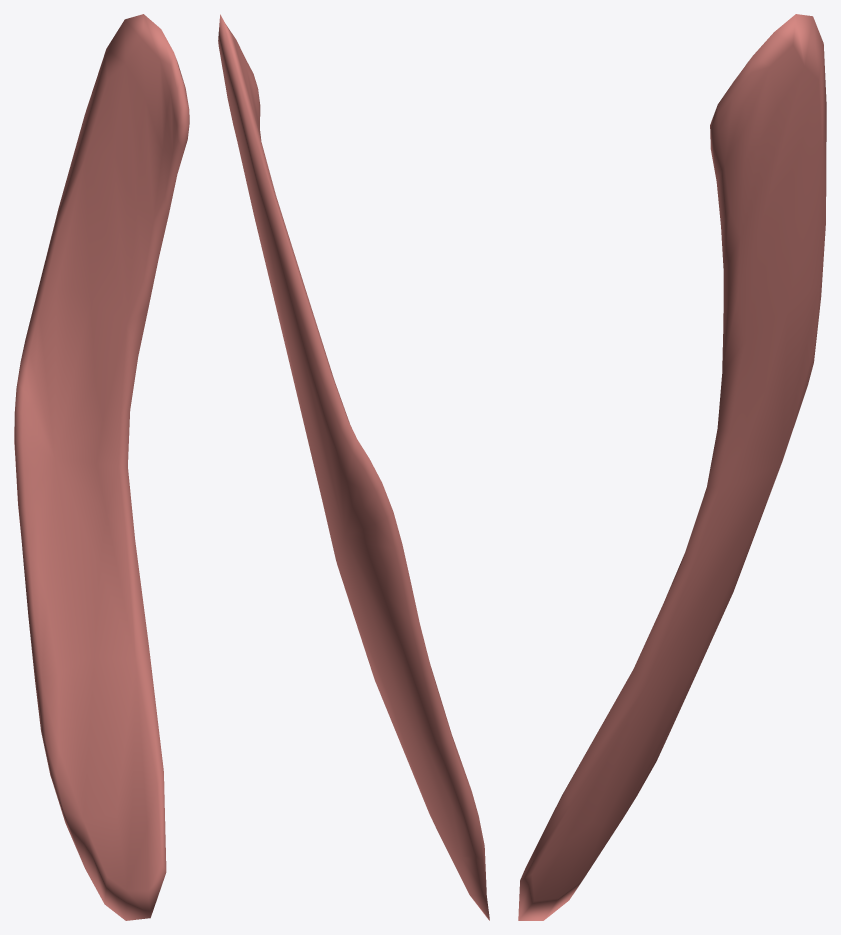
3 views of the same model, side by side, from view 1: azimuth 30°, elevation 25°; view 2: azimuth 150°, elevation 25°; view 3: azimuth 270°, elevation 25° (orthographic). The views are drawn at different scales.
Parts seen in each view (by area): view 1: ZA_02341be44f0c03b3; view 2: ZA_02341be44f0c03b3; view 3: ZA_02341be44f0c03b3.
Boxes of the visible parts, x1,y1,x2,y2 form: ZA_02341be44f0c03b3: (14, 14, 189, 920); ZA_02341be44f0c03b3: (218, 14, 489, 920); ZA_02341be44f0c03b3: (518, 14, 826, 920).
Bounding box in the file's own units: 0.00531 × 0.0239 × 0.00683.
